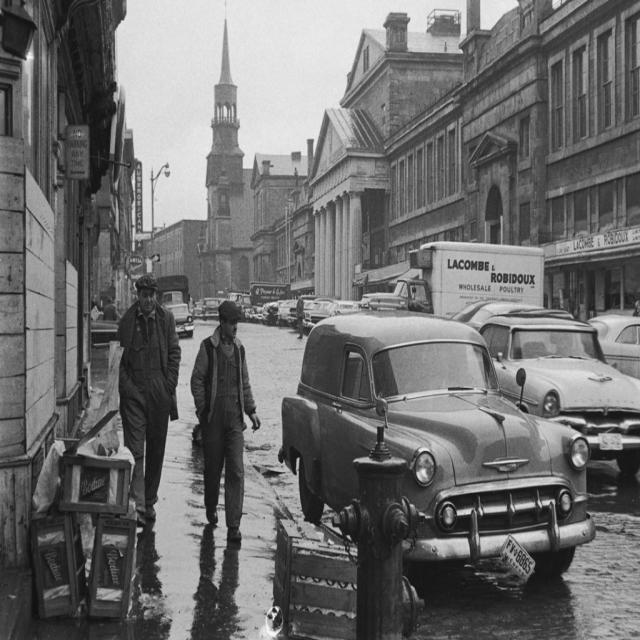car: (275, 317, 567, 592)
